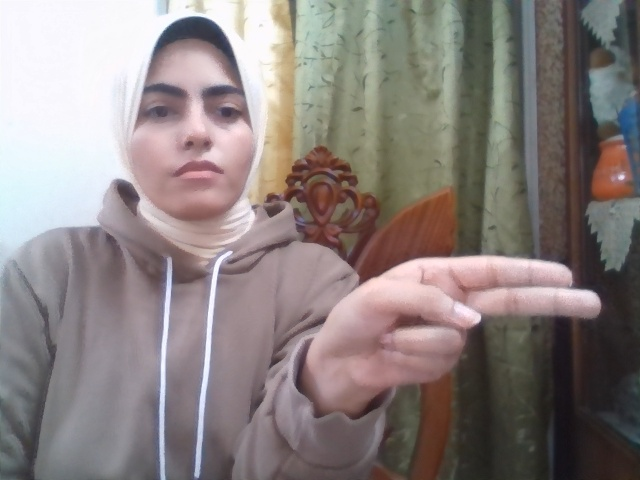H: (323, 255, 601, 393)
